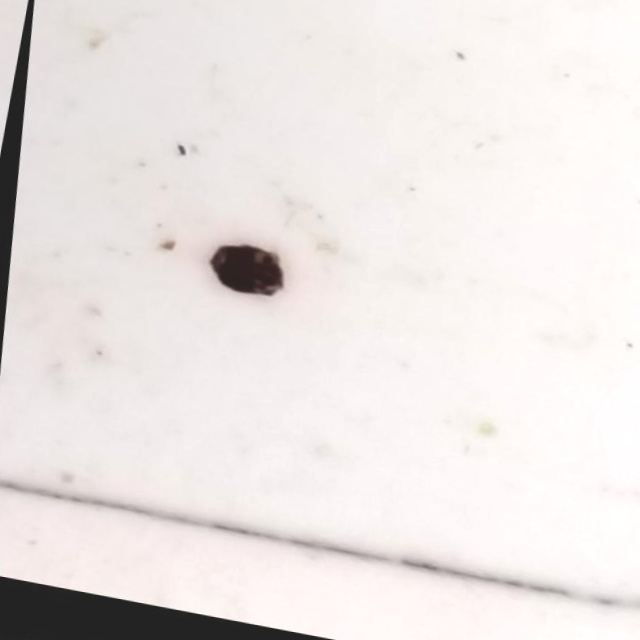varroa: (198, 242, 286, 305)
